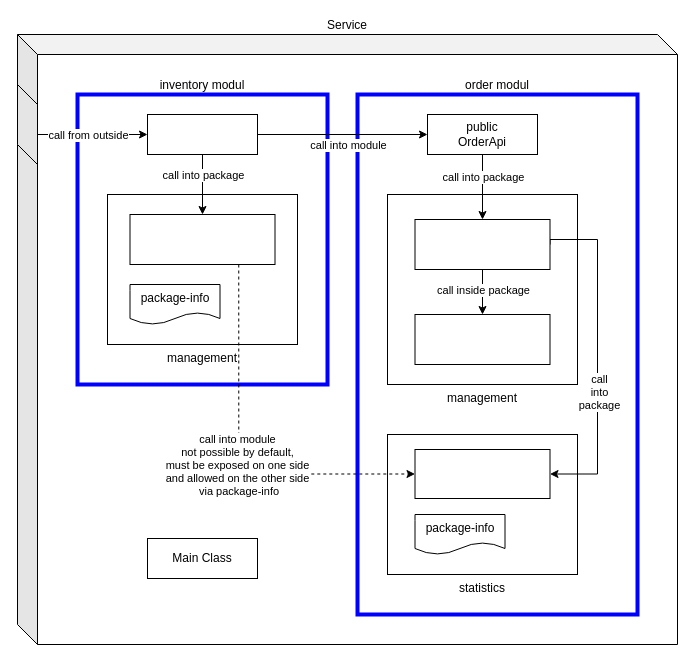
Some shapes in this 695 by 662 pixel diagram are drawn without their labels. Here are the shapes that lost their labels. From the top down, the centre of each, then its label:
At point (202, 134): "public InventoryApi".
At point (202, 239): "public Inventory Management".
At point (482, 244): "public OrderManagement".
At point (482, 339): "package private OrderHandler".
At point (482, 473): "public OrderStattistics".
